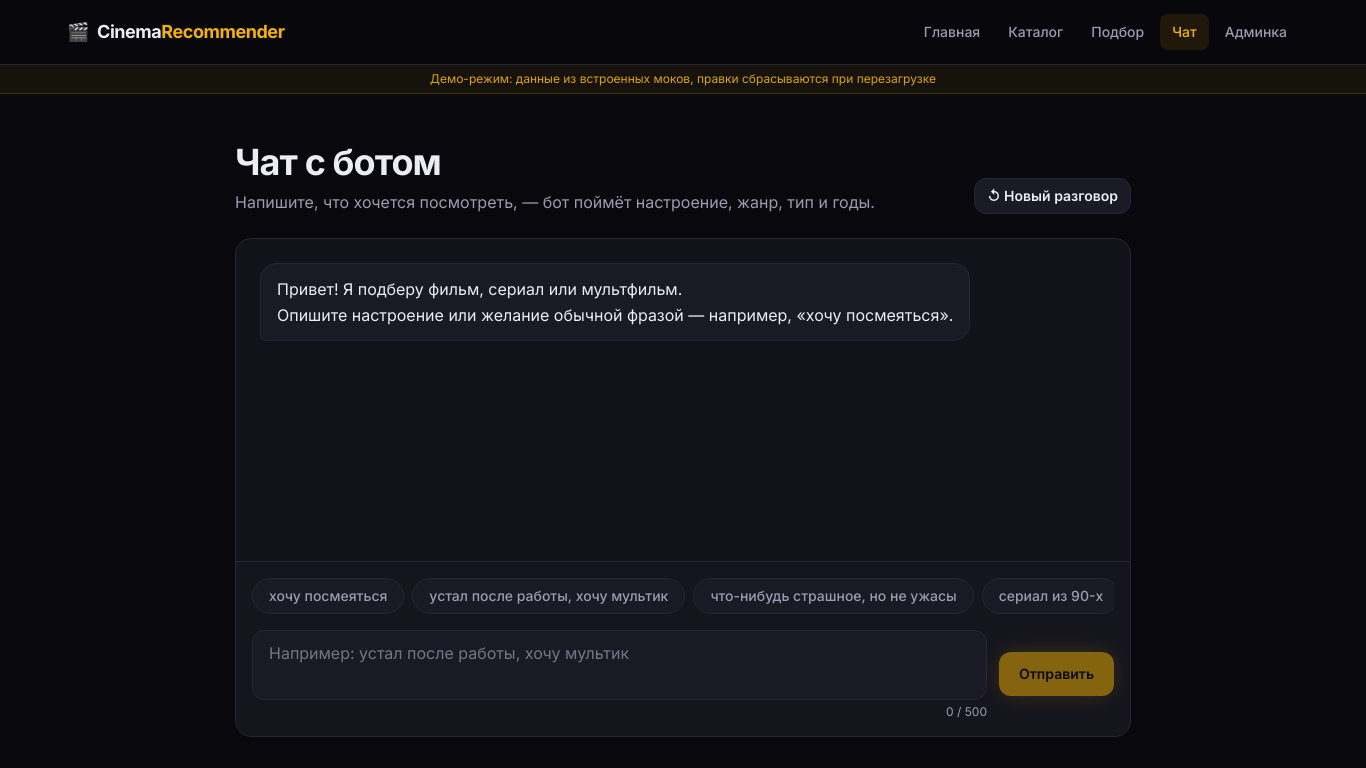
it: Чат › клик по подсказке подставляет текст в поле
This screenshot has width=1366, height=768.
Click the button "сериал из 90-х": (1051, 596) [982,578,1120,614]
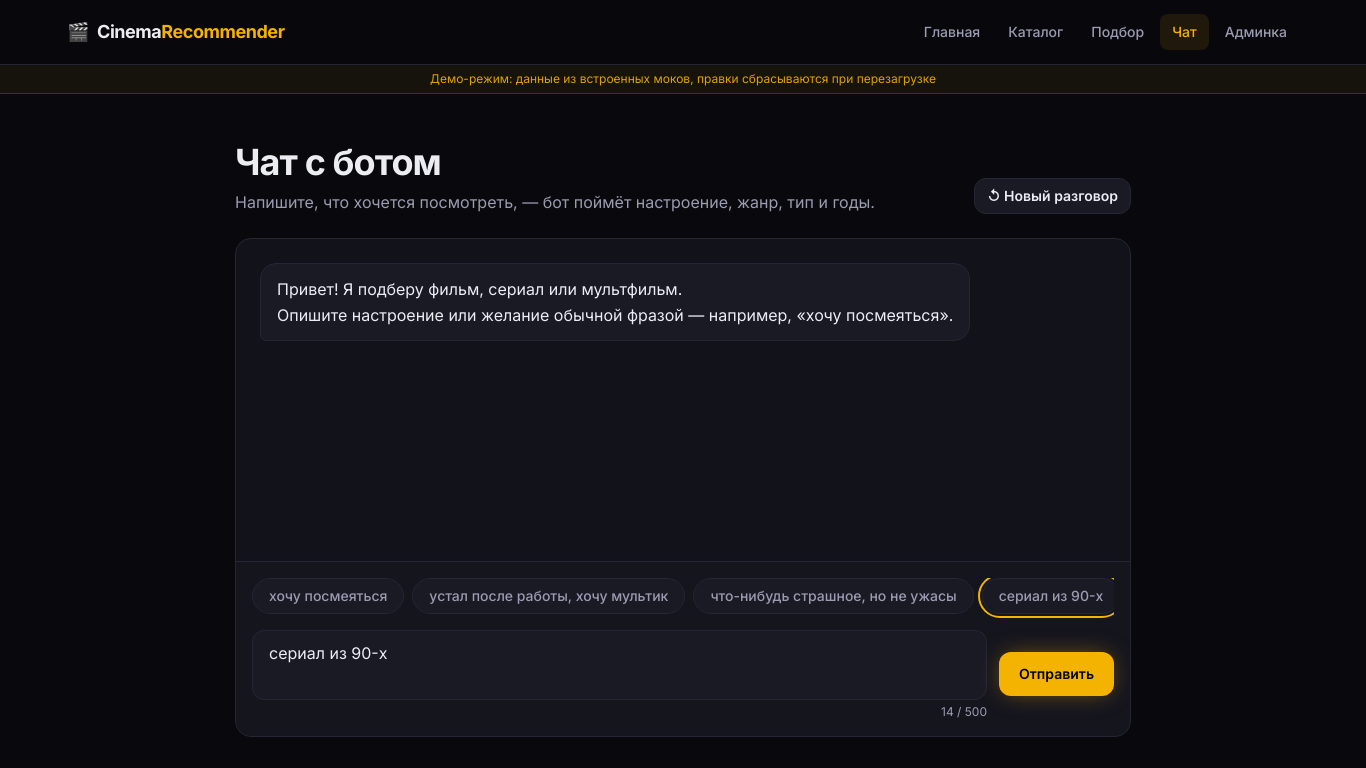
Check: the text box named "Сообщение" holds "сериал из 90-х", box [252,630,987,700]
Check: the text "14 / 500" is shown, box [941,704,987,720]
